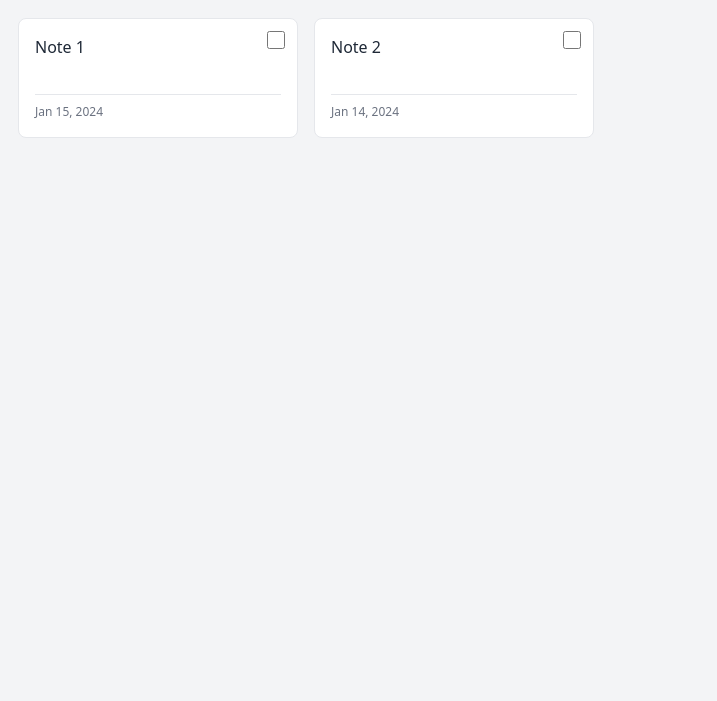
Test: InboxNotesList › deletes selected notes when delete button is clicked
Check: the heading "Note 1" is shown, box [35,36,85,58]
Click the 1st checkbox at (276, 40), box [267,31,285,49]
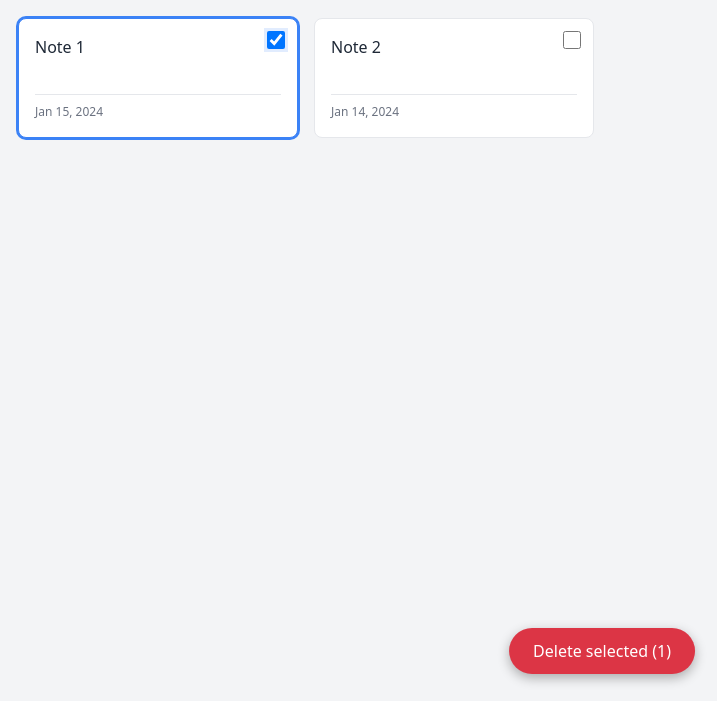
Click the 2nd checkbox at (572, 40), box [563,31,581,49]
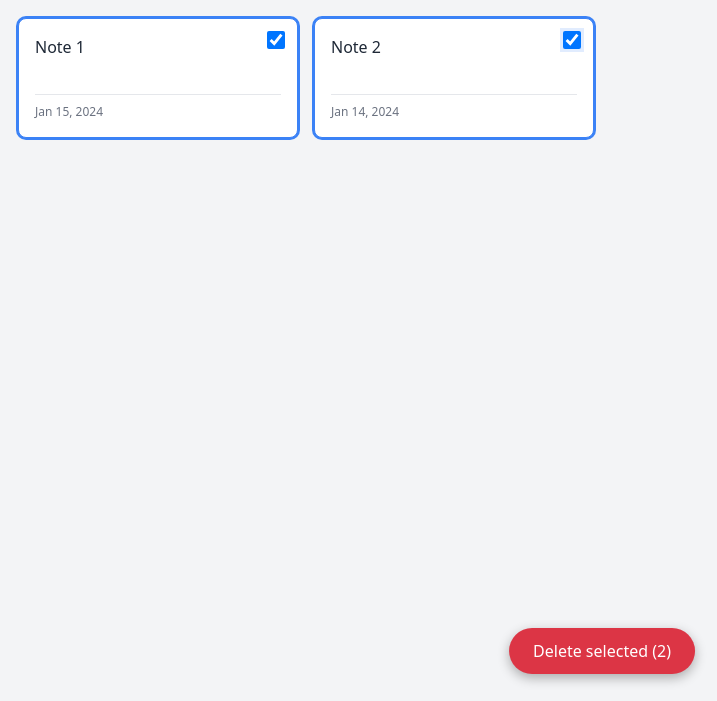
Click the button "Delete selected (2)" at (602, 651), box [509,628,695,674]
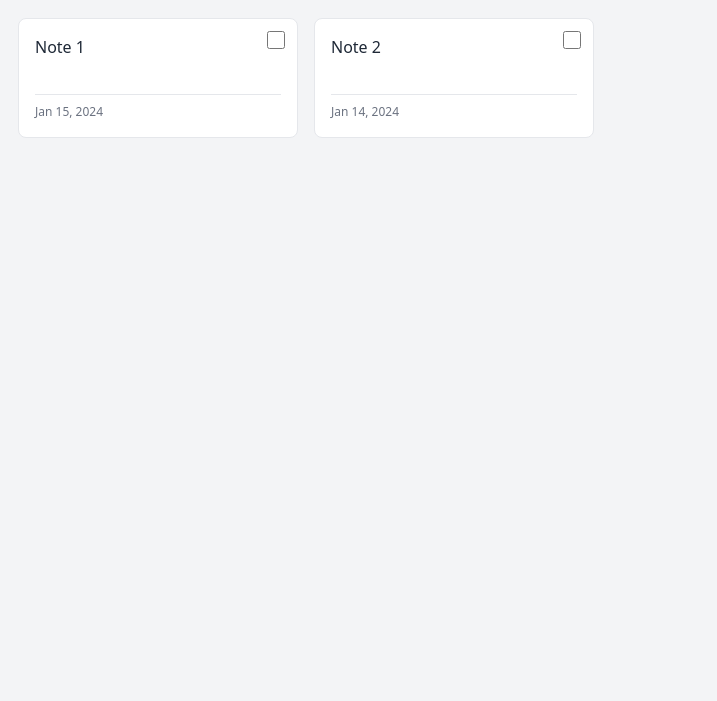
Check: the button "Delete selected" is gone
